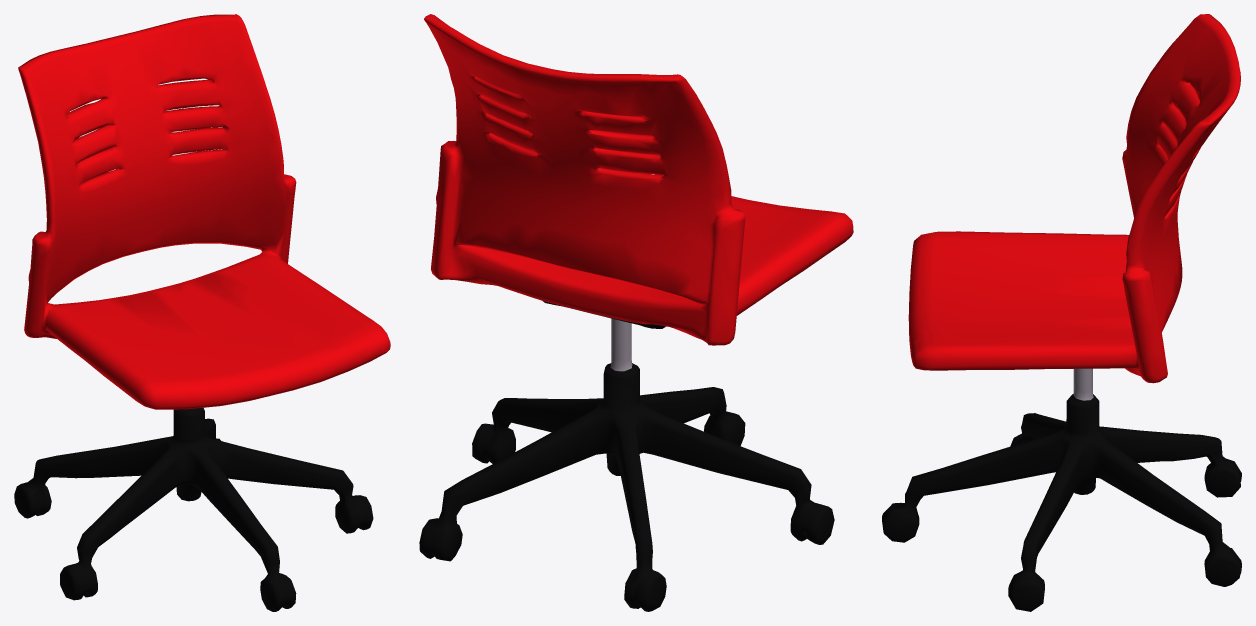
File: silla_50.obj
3 renders of one model, left to right at view 1: azimuth 30°, elevation 25°; view 2: azimuth 150°, elevation 25°; view 3: azimuth 270°, elevation 25°, orthographic. The views are drawn at different scales.
Visible parts, largest first — view 1: model.001, model; view 2: model.001, model, model.004; view 3: model.001, model, model.004.
Part boxes in pixels (x1,y1,x2,y2): model.001: (18, 14, 390, 409); model: (14, 407, 373, 611); model.001: (424, 14, 853, 345); model: (419, 363, 834, 611); model.004: (610, 318, 632, 371); model.001: (908, 14, 1240, 383); model: (882, 394, 1241, 611); model.004: (1073, 368, 1093, 400).
Size of the model in its own units: 1.3 by 1.91 by 1.32.
